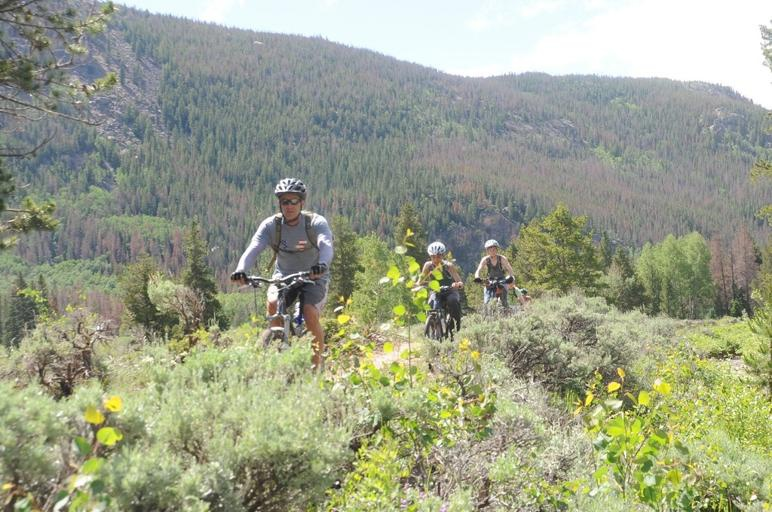non-vehicle: (236, 268, 326, 354), (416, 281, 463, 343), (472, 275, 513, 320)
